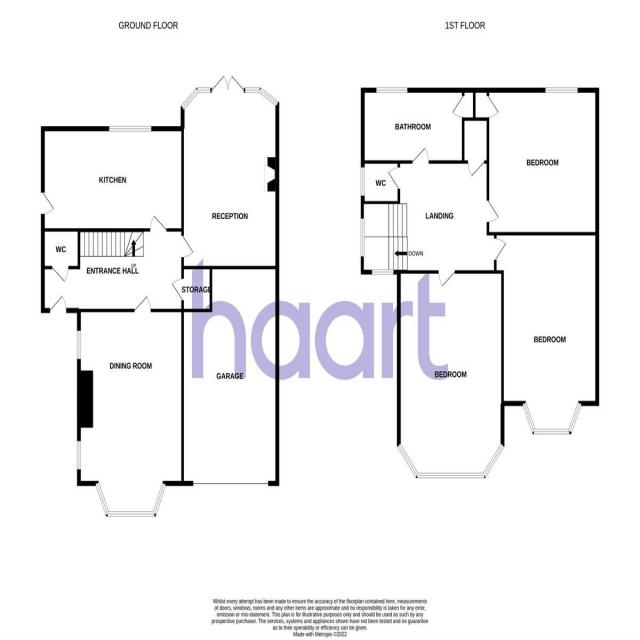DOOR: (40, 186, 57, 219), (385, 163, 402, 194), (486, 91, 501, 121), (486, 196, 501, 226), (451, 92, 466, 121), (409, 145, 431, 164), (132, 294, 153, 313), (466, 160, 487, 179), (494, 237, 508, 265), (181, 232, 195, 259), (437, 270, 458, 288), (148, 213, 167, 232), (47, 295, 67, 313)
DOUBLE DOOR: (211, 71, 245, 94)
ROOM: (77, 291, 185, 516), (396, 269, 504, 479), (181, 72, 280, 271), (487, 87, 600, 235), (41, 126, 184, 232)
WINDOW: (394, 439, 508, 481), (93, 480, 168, 518), (521, 399, 585, 436), (180, 86, 211, 111), (244, 86, 279, 108), (108, 123, 153, 133), (374, 85, 409, 94), (544, 85, 579, 94), (360, 215, 366, 258), (75, 438, 82, 471), (76, 329, 83, 361), (359, 165, 366, 197), (371, 267, 395, 276)
